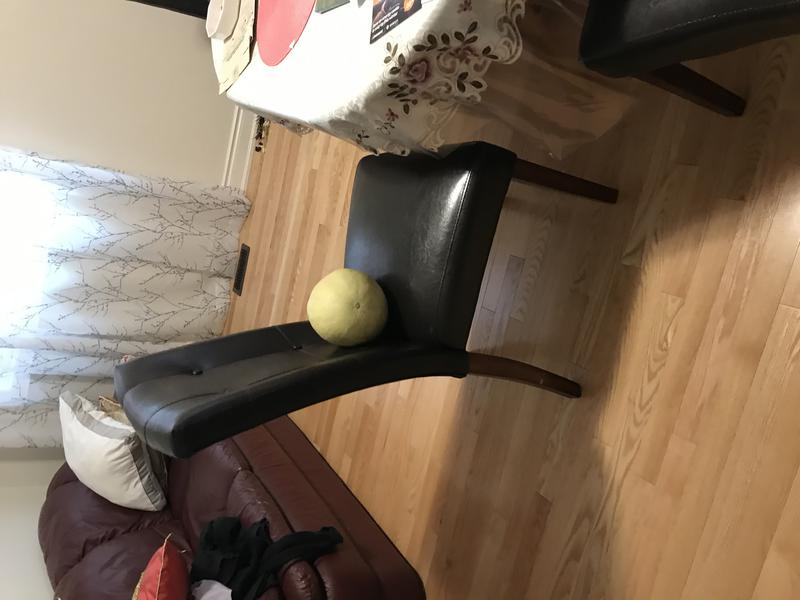honeydew: (304, 262, 392, 349)
